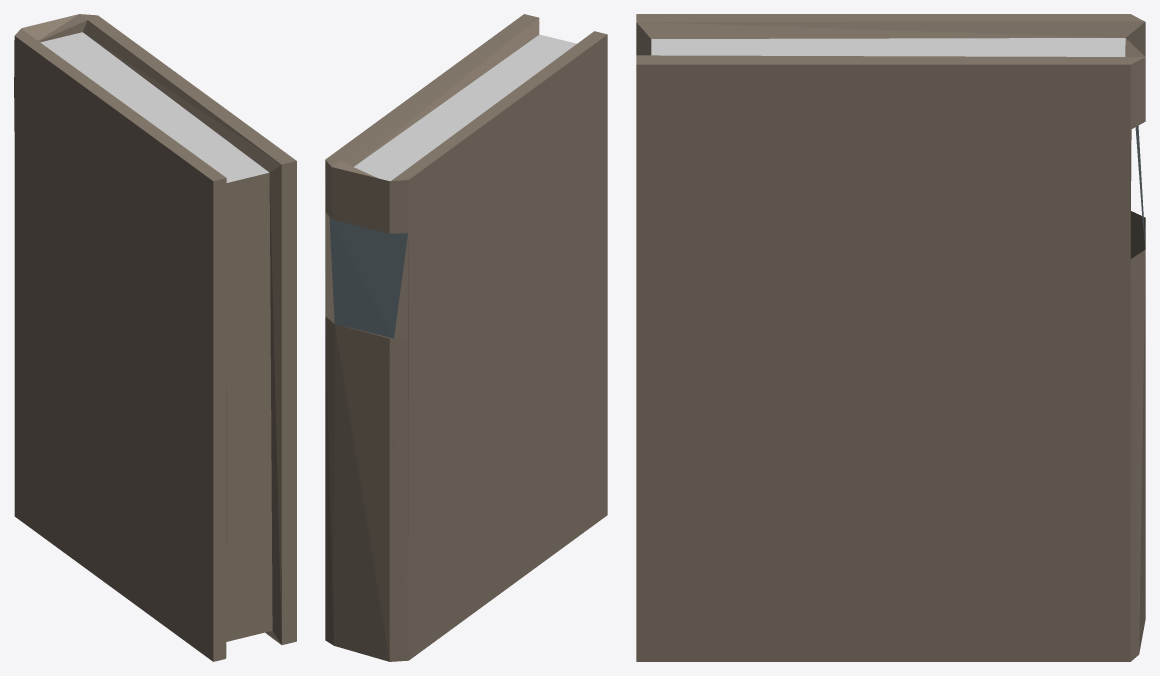
Rendered from book.glb.
3 views of the same model, side by side, from view 1: azimuth 30°, elevation 25°; view 2: azimuth 150°, elevation 25°; view 3: azimuth 270°, elevation 25° (orthographic). The views are drawn at different scales.
Visible parts, largest first — view 1: book; view 2: book; view 3: book.
Boxes of the visible parts, x1,y1,x2,y2 form: book: (14, 14, 296, 661); book: (325, 14, 607, 661); book: (636, 14, 1145, 661).
Bounding box in the file's own units: 0.0518 × 0.2847 × 0.22.
